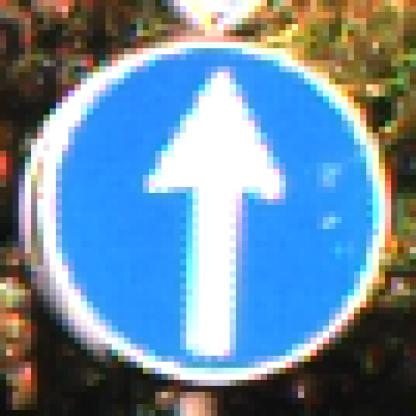AheadOnly: (38, 37, 380, 381)
